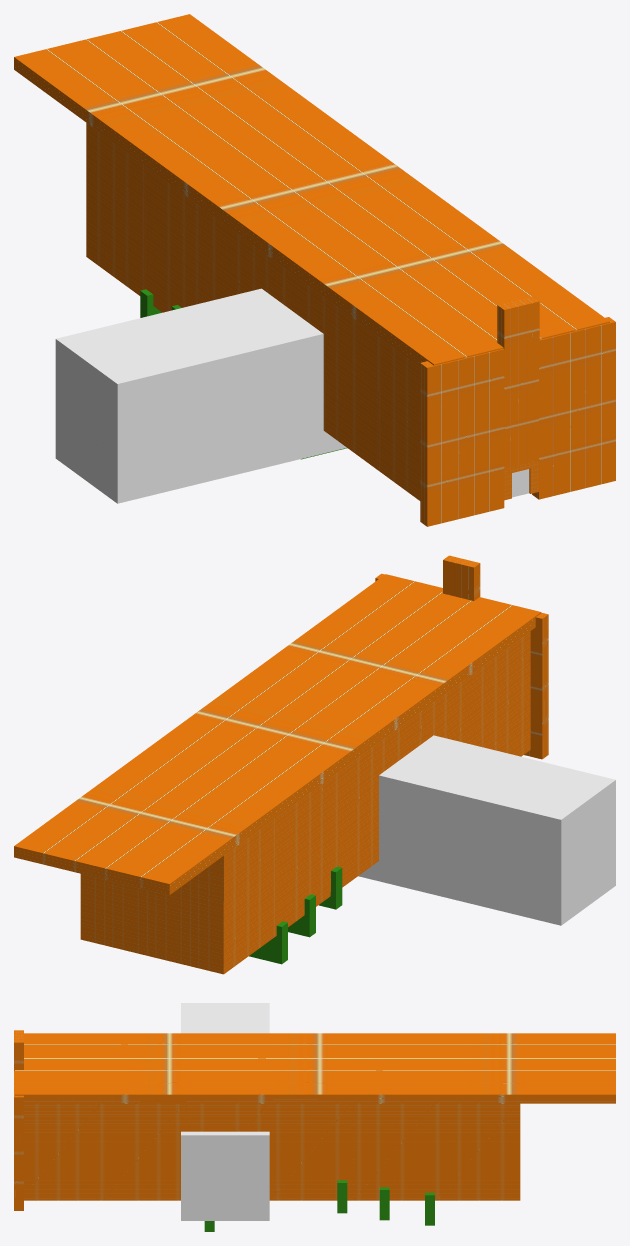
The model's file is Start Room.fbx.
3 renders of one model, top to bottom at view 1: azimuth 30°, elevation 25°; view 2: azimuth 150°, elevation 25°; view 3: azimuth 270°, elevation 25°, orthographic. The views are drawn at different scales.
Visible parts, largest first — view 1: Cube__3_, Gravity_Zone, Plane, Cube__1_, Cube, Cube__2_, Door; view 2: Cube__3_, Plane, Gravity_Zone, Cube__1_, Cube__2_, Hurdle, Hurdle_1, Hurdle_2; view 3: Cube__3_, Plane, Gravity_Zone, Cube, Cube__2_, Hurdle_1, Hurdle_2, Hurdle.
Boxes of the visible parts, x1,y1,x2,y2 form: Cube__3_: [14, 14, 609, 366]; Gravity_Zone: [55, 288, 346, 503]; Plane: [86, 123, 420, 500]; Cube__1_: [420, 349, 504, 526]; Cube: [532, 317, 615, 499]; Cube__2_: [497, 296, 539, 468]; Door: [504, 460, 538, 500]; Cube__3_: [14, 574, 541, 895]; Plane: [80, 631, 530, 974]; Gravity_Zone: [358, 735, 615, 925]; Cube__1_: [524, 612, 548, 759]; Cube__2_: [443, 555, 480, 600]; Hurdle: [249, 921, 287, 964]; Hurdle_1: [288, 894, 315, 937]; Hurdle_2: [319, 866, 342, 909]; Cube__3_: [15, 1033, 615, 1103]; Plane: [24, 1103, 520, 1200]; Gravity_Zone: [181, 1003, 269, 1220]; Cube: [14, 1070, 23, 1210]; Cube__2_: [14, 1030, 23, 1070]; Hurdle_1: [379, 1187, 389, 1220]; Hurdle_2: [337, 1180, 347, 1213]; Hurdle: [425, 1192, 434, 1225].
Bounding box in the file's own units: 3148 × 1812 × 6009.
6 materials, 2 textured.
